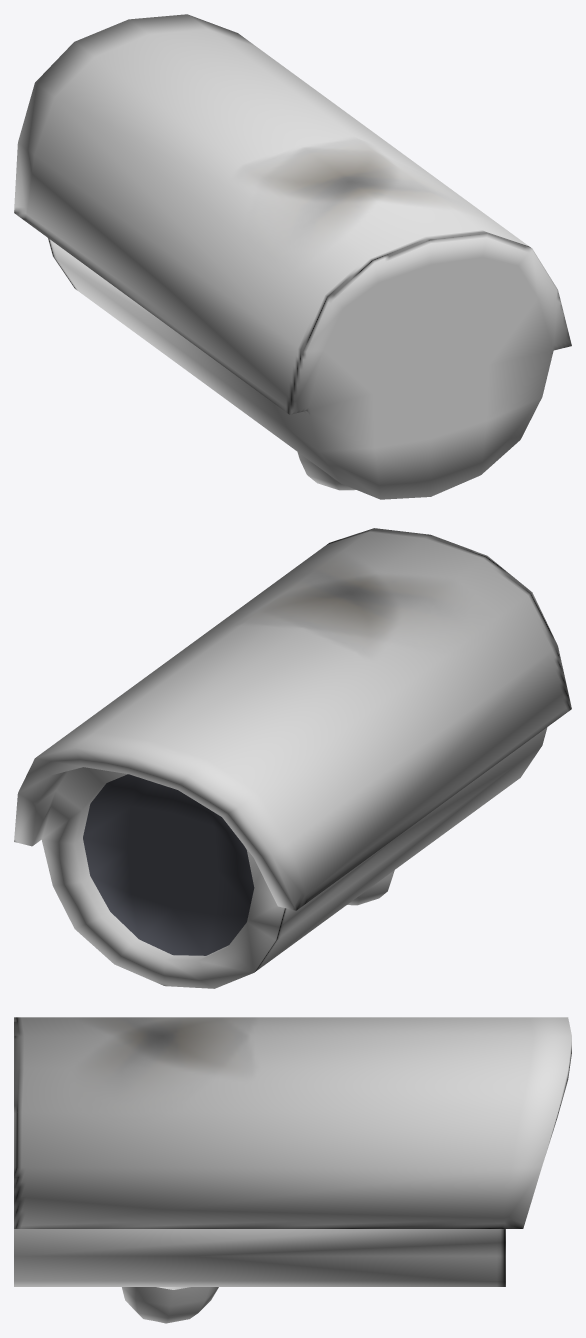
Rendered from Camera.fbx.
3 renders of one model, top to bottom at view 1: azimuth 30°, elevation 25°; view 2: azimuth 150°, elevation 25°; view 3: azimuth 270°, elevation 25°, orthographic. The views are drawn at different scales.
Visible parts, largest first — view 1: Camera; view 2: Camera; view 3: Camera.
Boxes of the visible parts, <box> form: Camera: <box>14,14,571,499</box>; Camera: <box>14,528,571,988</box>; Camera: <box>14,1017,571,1323</box>.
Bounding box in the file's own units: 36.66 × 37.35 × 67.97.
